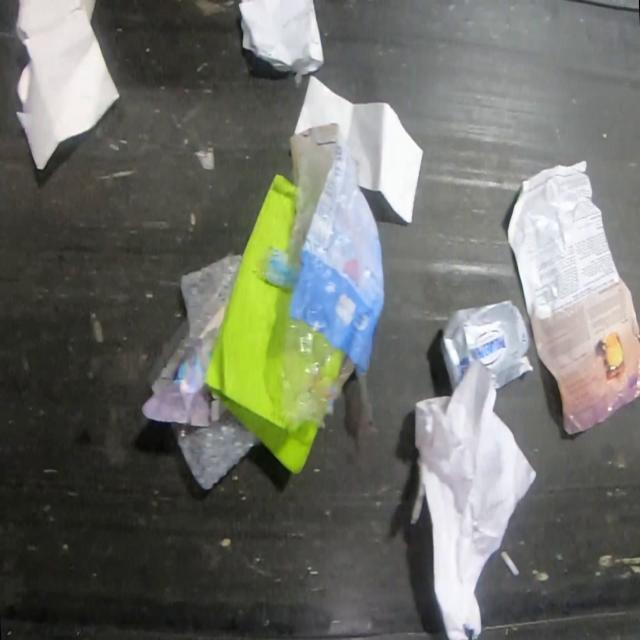cardboard: (438, 298, 534, 391)
soft_plastic: (253, 121, 386, 449), (141, 252, 262, 491)
